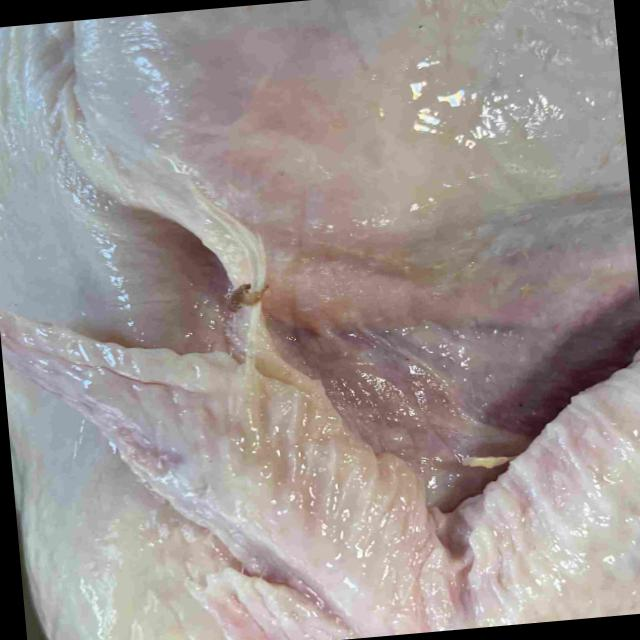leg: (74, 0, 522, 233)
wing: (0, 318, 640, 640)
